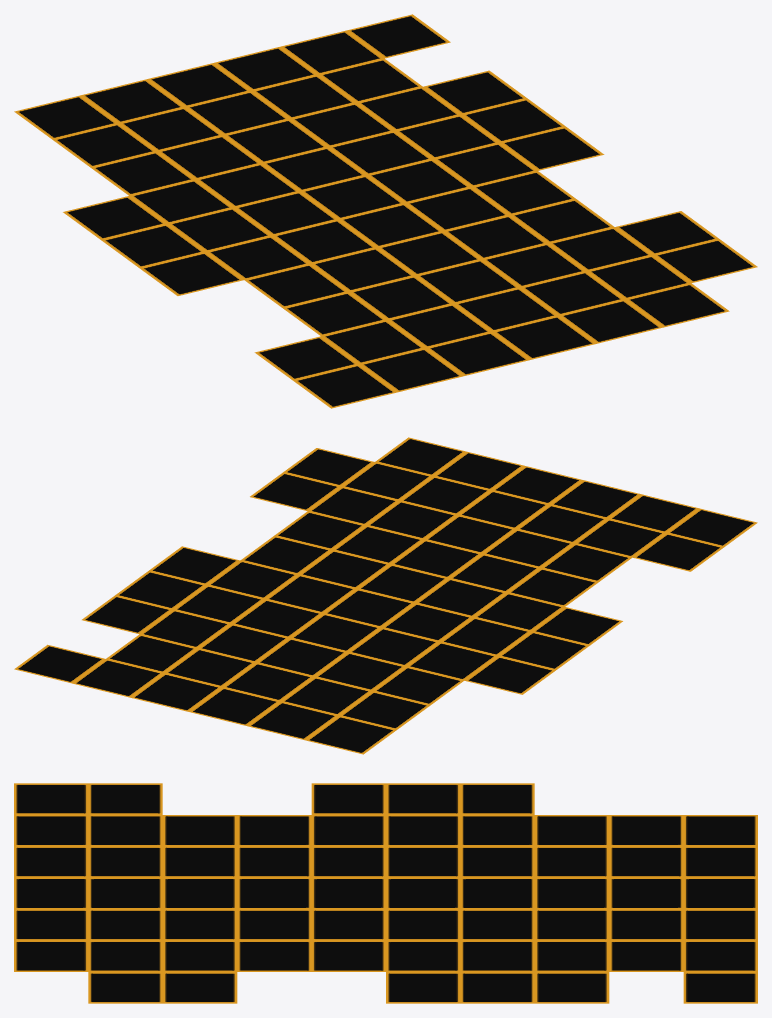
The model's file is Straight2.fbx.
3 views of the same model, one above another, from view 1: azimuth 30°, elevation 25°; view 2: azimuth 150°, elevation 25°; view 3: azimuth 270°, elevation 25° (orthographic). The views are drawn at different scales.
Visible parts, largest first — view 1: pPlane7; view 2: pPlane7; view 3: pPlane7.
Boxes of the visible parts, box(x1,y1,x2,y2) form: pPlane7: box(14, 14, 757, 408); pPlane7: box(14, 437, 757, 754); pPlane7: box(14, 783, 757, 1003).
Size of the model in its own units: 17.5 by 0 by 25.
